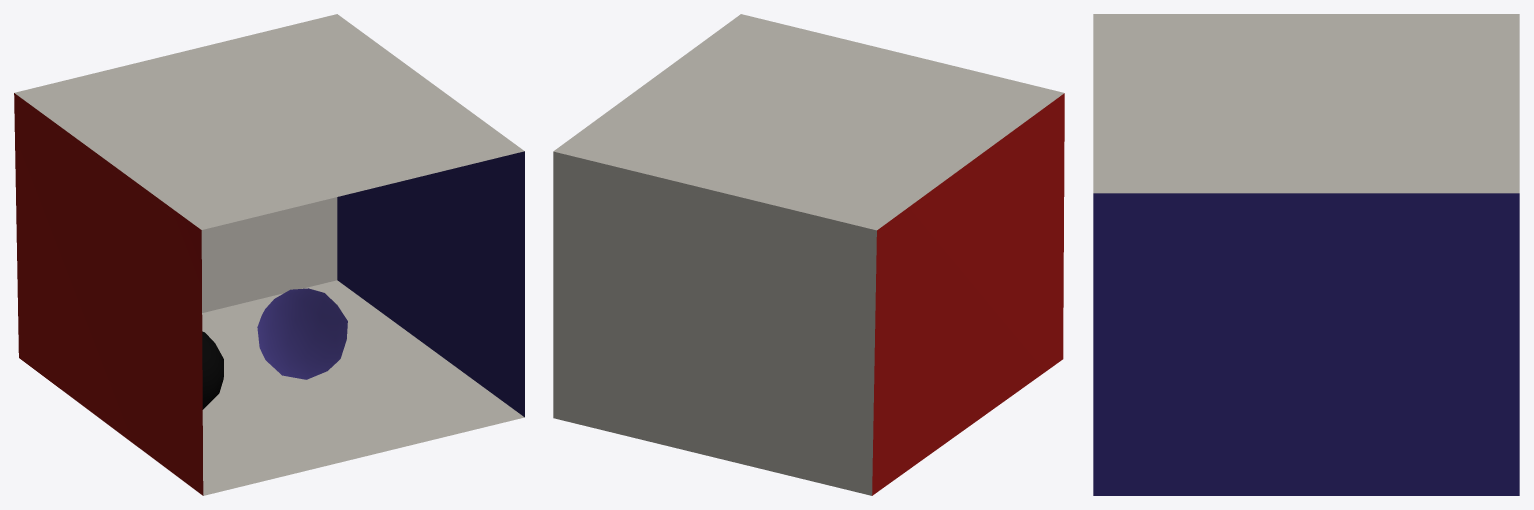
The model's file is CornellBox-Sphere-1260.obj.
3 views of the same model, side by side, from view 1: azimuth 30°, elevation 25°; view 2: azimuth 150°, elevation 25°; view 3: azimuth 270°, elevation 25° (orthographic). The views are drawn at different scales.
Visible parts, largest first — view 1: ceiling, leftWall, floor, rightWall, backWall, leftSphere, rightSphere; view 2: backWall, ceiling, leftWall; view 3: rightWall, ceiling.
Boxes of the visible parts, x1,y1,x2,y2 form: ceiling: (14, 14, 524, 229); leftWall: (14, 93, 203, 495); floor: (202, 280, 524, 495); rightWall: (337, 151, 524, 417); backWall: (201, 197, 337, 312); leftSphere: (257, 288, 347, 379); rightSphere: (202, 331, 223, 409); backWall: (553, 151, 876, 495); ceiling: (553, 14, 1064, 230); leftWall: (872, 93, 1064, 495); rightWall: (1093, 193, 1519, 495); ceiling: (1093, 14, 1519, 193).
Size of the model in its own units: 2.02 by 1.59 by 2.03.
